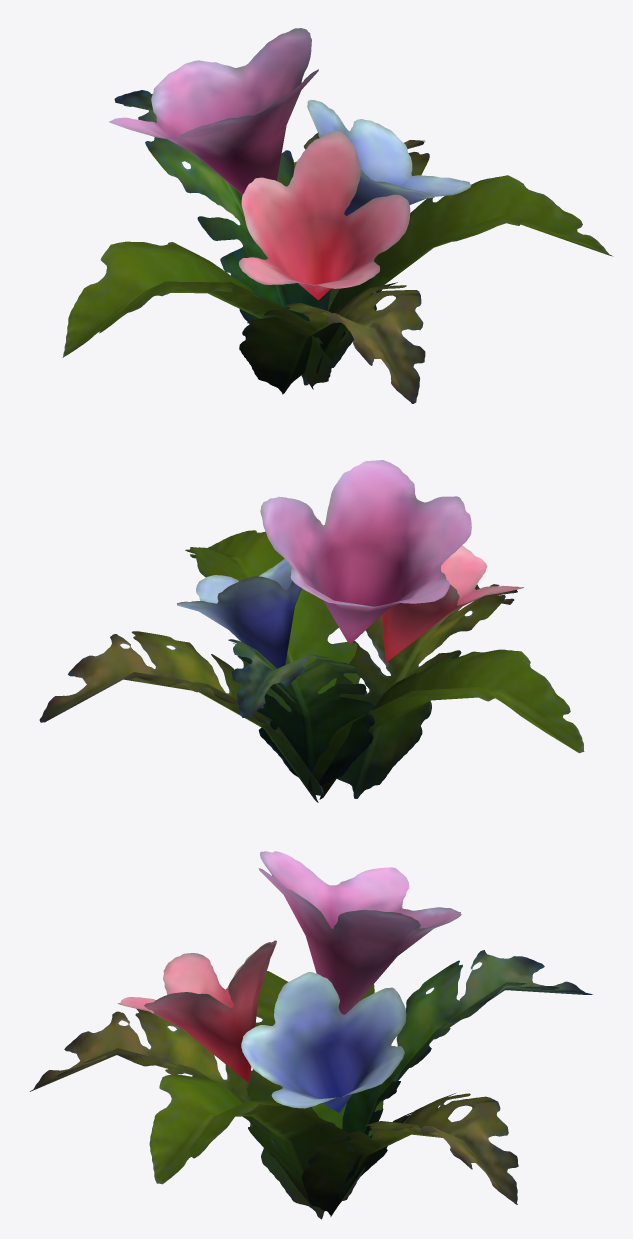
The model's file is bush_4.fbx.
3 renders of one model, top to bottom at view 1: azimuth 30°, elevation 25°; view 2: azimuth 150°, elevation 25°; view 3: azimuth 270°, elevation 25°, orthographic. The views are drawn at different scales.
Parts seen in each view (by area): view 1: bush_4; view 2: bush_4; view 3: bush_4.
Boxes of the visible parts, box(x1,y1,x2,y2) form: bush_4: box(62, 28, 613, 403); bush_4: box(39, 460, 584, 802); bush_4: box(30, 851, 592, 1219).
Bounding box in the file's own units: 1.04 × 0.6792 × 1.07.
